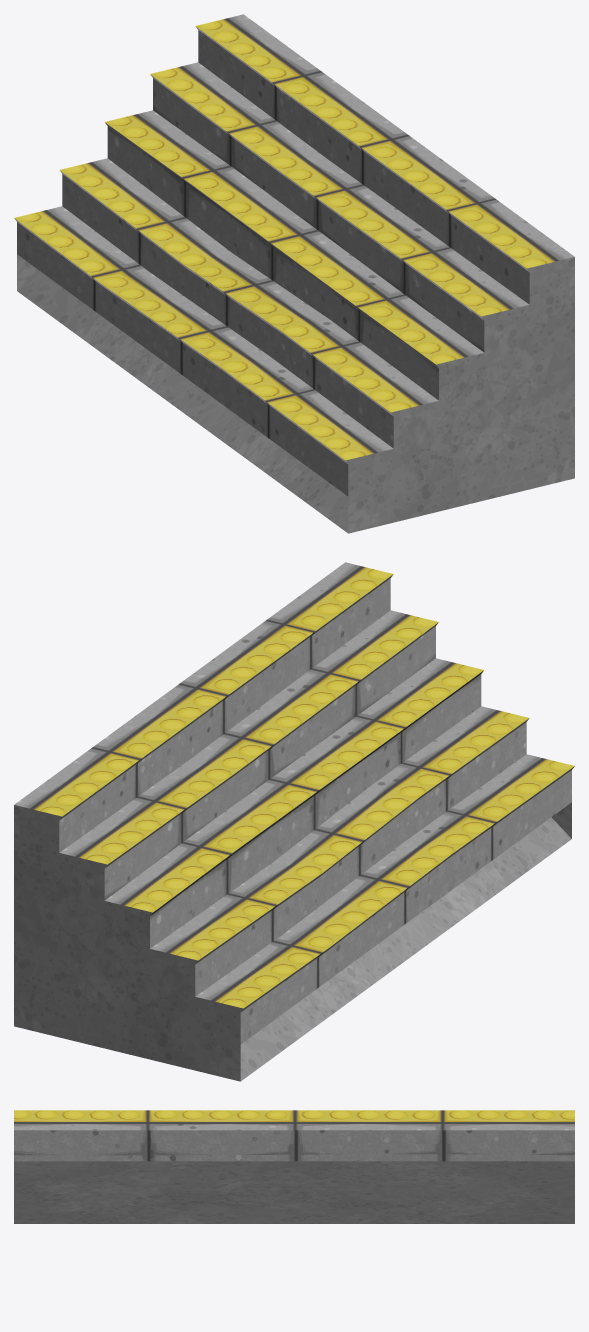
Rendered from SM_Inner_Steps_Short.fbx.
3 views of the same model, one above another, from view 1: azimuth 30°, elevation 25°; view 2: azimuth 150°, elevation 25°; view 3: azimuth 270°, elevation 25° (orthographic). The views are drawn at different scales.
Parts seen in each view (by area): view 1: SM_Inner_Steps_Short, SM_Inner_Wall_Steps_Short_R; view 2: SM_Inner_Steps_Short, SM_Inner_Wall_Steps_Short_L; view 3: SM_Inner_Steps_Short.
Boxes of the visible parts, box(x1,y1,x2,y2) form: SM_Inner_Steps_Short: box(14, 14, 574, 533); SM_Inner_Wall_Steps_Short_R: box(349, 294, 574, 533); SM_Inner_Steps_Short: box(14, 562, 574, 1081); SM_Inner_Wall_Steps_Short_L: box(14, 842, 239, 1081); SM_Inner_Steps_Short: box(14, 1110, 574, 1223).
Size of the model in its own units: 152 by 140 by 380.
